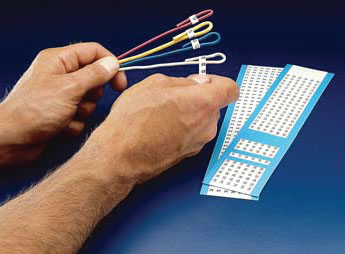Nonrec_Tangler: (116, 3, 232, 71)
